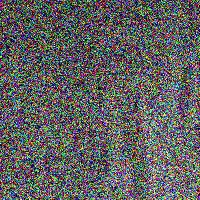inclusion: (120, 77, 151, 198), (171, 1, 199, 132), (83, 114, 110, 180), (40, 115, 61, 192), (93, 79, 110, 120), (98, 1, 115, 31)
